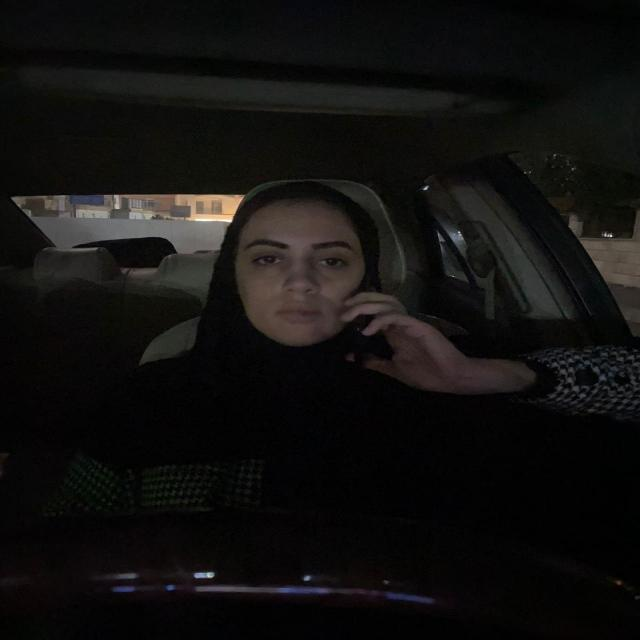mobile: (345, 278, 410, 373)
person: (240, 189, 372, 343)
